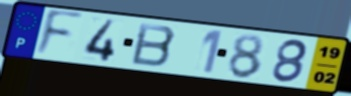1: (198, 28, 224, 75)
4: (82, 17, 118, 63)
8: (224, 33, 268, 80), (270, 37, 309, 84)
B: (129, 21, 178, 69)
F: (32, 8, 86, 59)
